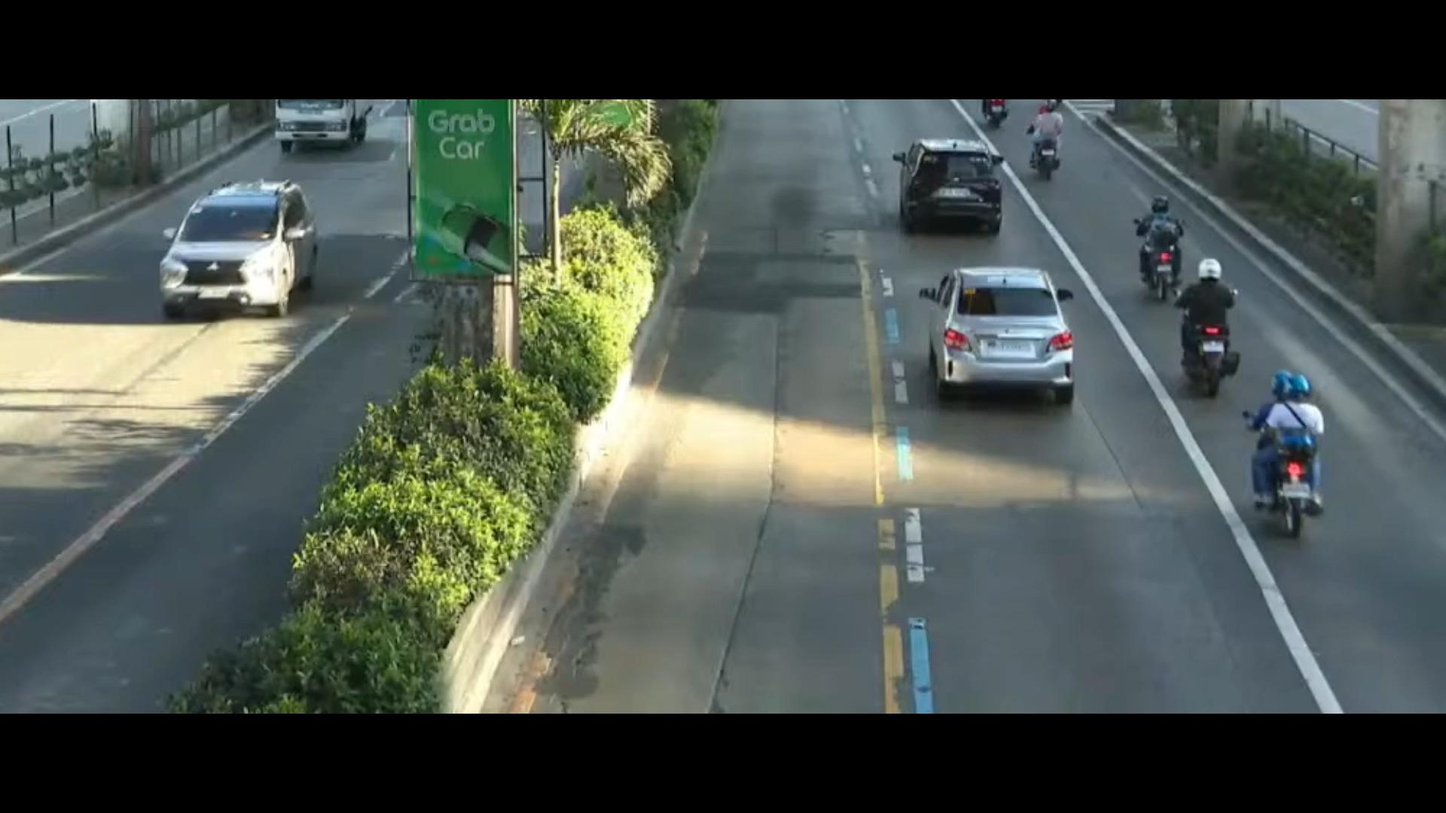Motorcycle: (1218, 352, 1364, 553), (1148, 251, 1266, 402), (1120, 181, 1208, 300), (1017, 101, 1085, 197)
SUV: (137, 164, 332, 352), (885, 128, 1015, 256)
Sedan: (903, 259, 1085, 424)
